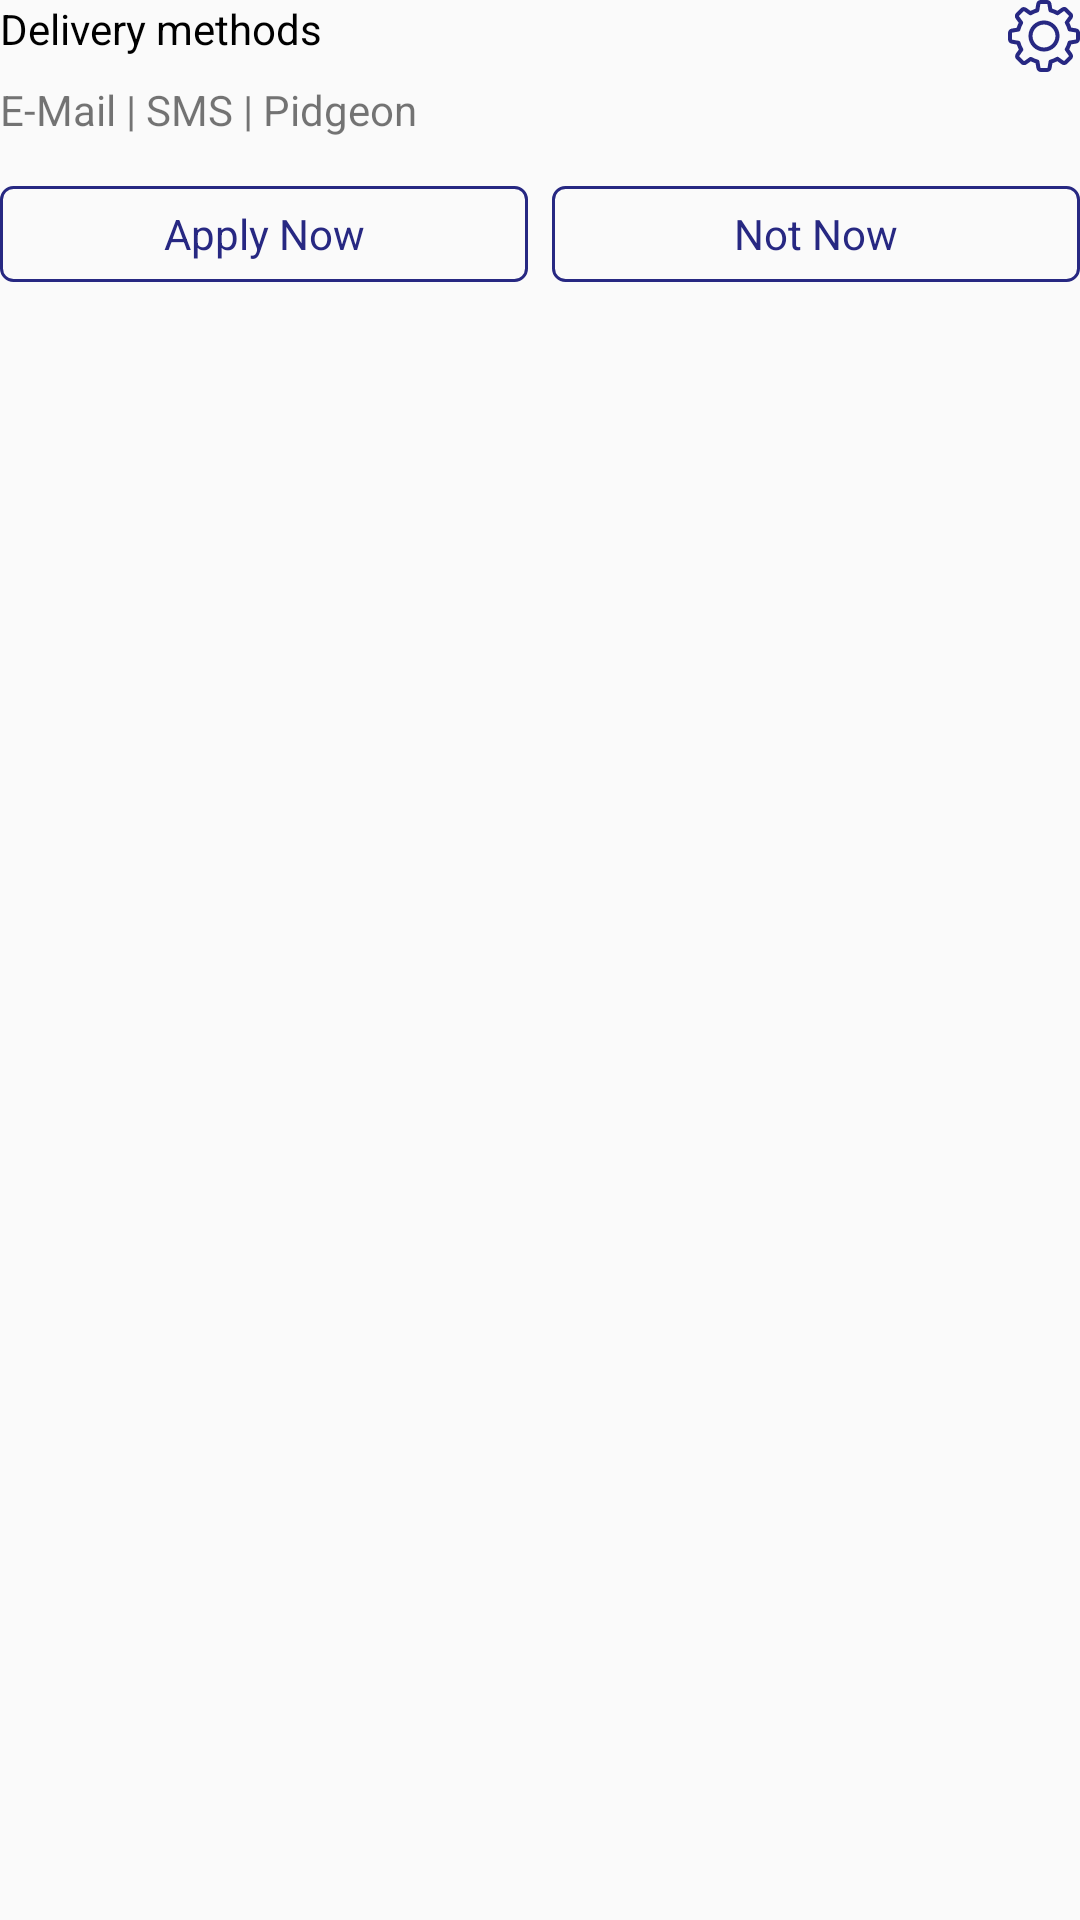

Icon click points for this 1080*1920 phone screenshot, format (x,y):
settings: (1044,36)
